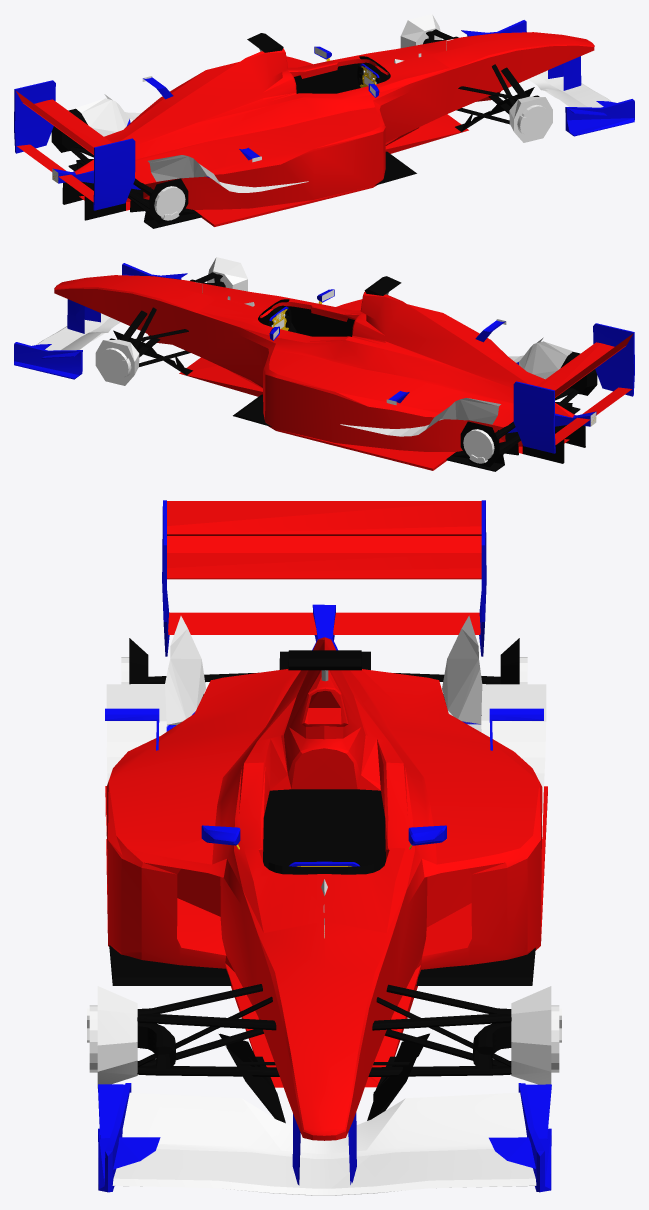
File: chasis.dae
The picture shows the model from 3 angles, top to bottom: view 1: azimuth 30°, elevation 25°; view 2: azimuth 150°, elevation 25°; view 3: azimuth 270°, elevation 25°; orthographic projection. The views are drawn at different scales.
Visible parts, largest first — view 1: SketchUp_030, SketchUp_018, SketchUp_015, SketchUp_026, SketchUp_177, SketchUp_041, SketchUp_012, SketchUp_183, SketchUp_060, SketchUp_144, SketchUp_047, SketchUp_010 (+15 smaller); view 2: SketchUp_030, SketchUp_015, SketchUp_018, SketchUp_027, SketchUp_179, SketchUp_183, SketchUp_012, SketchUp_041, SketchUp_060, SketchUp_047, SketchUp_144, SketchUp_010 (+15 smaller); view 3: SketchUp_030, SketchUp_028, SketchUp_010, SketchUp_012, SketchUp_014, SketchUp_190, SketchUp_019, SketchUp_156, SketchUp_036, SketchUp_206, SketchUp_047, SketchUp_144 (+17 smaller).
Boxes of the visible parts, box(x1,y1,x2,y2) form: SketchUp_030: box(73, 32, 594, 226); SketchUp_018: box(93, 138, 135, 210); SketchUp_015: box(14, 80, 55, 153); SketchUp_026: box(565, 99, 634, 136); SketchUp_177: box(294, 62, 376, 93); SketchUp_041: box(75, 98, 133, 136); SketchUp_012: box(23, 99, 111, 154); SketchUp_183: box(148, 155, 207, 181); SketchUp_060: box(62, 181, 143, 220); SketchUp_144: box(400, 14, 441, 47); SketchUp_047: box(509, 96, 552, 142); SketchUp_010: box(539, 70, 611, 107); SketchUp_030: box(54, 275, 575, 470); SketchUp_015: box(513, 381, 555, 453); SketchUp_018: box(593, 323, 634, 396); SketchUp_027: box(14, 342, 82, 379); SketchUp_179: box(272, 305, 354, 336); SketchUp_183: box(519, 341, 572, 379); SketchUp_012: box(537, 342, 626, 397); SketchUp_041: box(439, 398, 500, 424); SketchUp_060: box(505, 425, 585, 463); SketchUp_047: box(207, 257, 247, 291); SketchUp_144: box(95, 339, 139, 385); SketchUp_010: box(36, 313, 109, 350); SketchUp_030: box(105, 637, 547, 1140); SketchUp_028: box(122, 1092, 526, 1158); SketchUp_010: box(112, 1149, 536, 1195); SketchUp_012: box(167, 536, 481, 579); SketchUp_014: box(167, 501, 481, 535); SketchUp_190: box(263, 789, 385, 868); SketchUp_019: box(168, 612, 480, 634); SketchUp_156: box(109, 945, 535, 985); SketchUp_036: box(137, 1029, 511, 1076); SketchUp_206: box(481, 684, 546, 789); SketchUp_047: box(97, 986, 137, 1088); SketchUp_144: box(511, 986, 551, 1084).
Bounding box in the file's own units: 0.8888 × 0.3402 × 0.1972.
